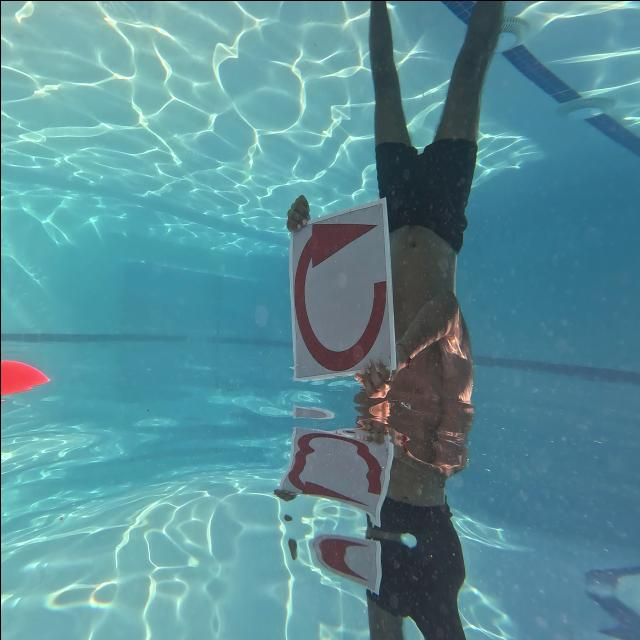red_side: (288, 214, 394, 376)
